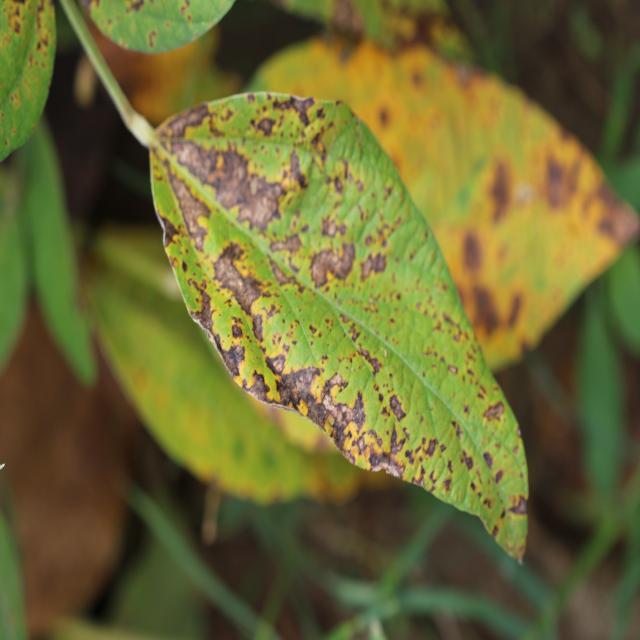Bacterial_Blight: (169, 133, 298, 242), (279, 348, 375, 454), (310, 232, 377, 301), (209, 237, 271, 308), (170, 139, 233, 188), (168, 174, 214, 241), (274, 362, 324, 416), (405, 430, 449, 481), (161, 104, 216, 138), (270, 94, 317, 128), (216, 334, 249, 378), (362, 218, 396, 256), (195, 288, 215, 328), (287, 149, 307, 188), (263, 351, 289, 380), (247, 370, 272, 400), (160, 217, 180, 245), (483, 400, 506, 421), (507, 494, 528, 516), (255, 116, 276, 135), (460, 450, 474, 471), (425, 437, 438, 457), (482, 451, 495, 469)
Soybean: (136, 91, 530, 565)
